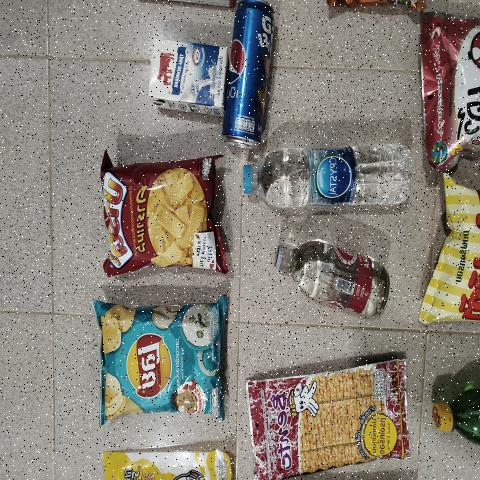bento_red: (258, 355, 406, 463)
crystal: (239, 140, 408, 216)
lay_blue: (105, 307, 217, 408)
party_red: (107, 158, 219, 268)
pepsi_blue: (225, 4, 280, 149)
singha_soda: (271, 240, 397, 316)
thai_denmark: (151, 45, 226, 111)
